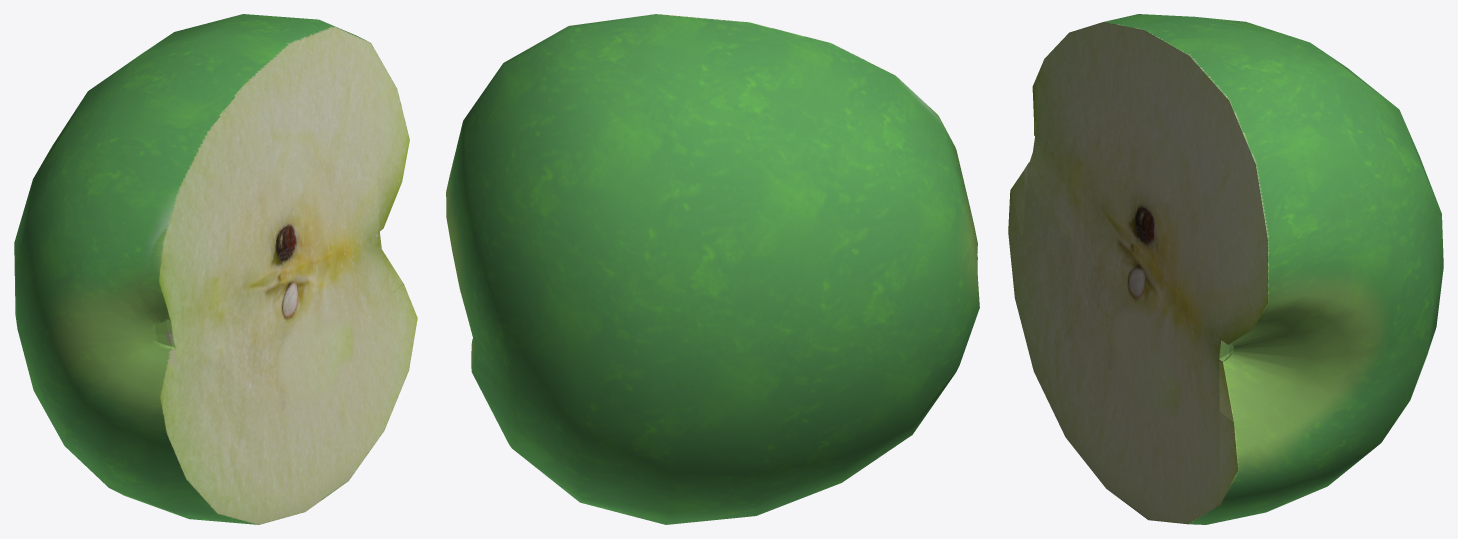
The model's file is G_Apple_Slice-02.FBX.
3 views of the same model, side by side, from view 1: azimuth 30°, elevation 25°; view 2: azimuth 150°, elevation 25°; view 3: azimuth 270°, elevation 25° (orthographic). The views are drawn at different scales.
Visible parts, largest first — view 1: Green-Apple; view 2: Green-Apple; view 3: Green-Apple.
Boxes of the visible parts, box(x1,y1,x2,y2) form: Green-Apple: box(14, 14, 417, 524); Green-Apple: box(446, 14, 979, 524); Green-Apple: box(1008, 14, 1443, 524).
Size of the model in its own units: 72.28 by 73.28 by 62.39.
1 material, 1 textured.
